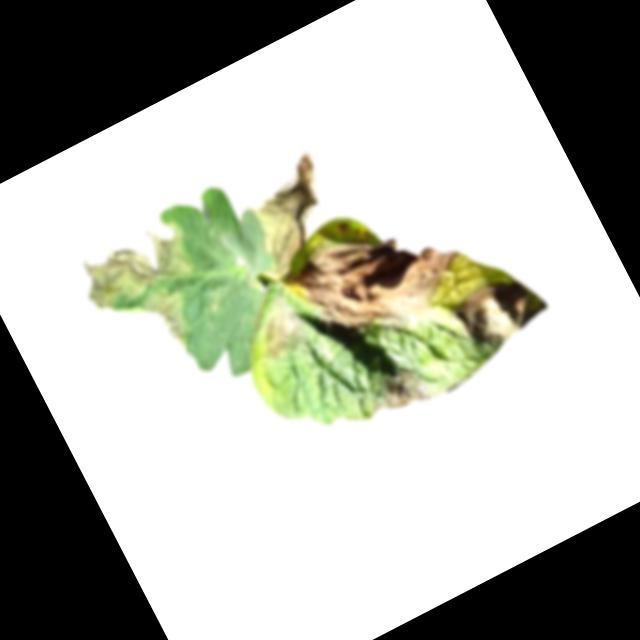Late_blight: (284, 194, 477, 362), (67, 213, 232, 382), (226, 145, 357, 279), (446, 262, 554, 357), (245, 291, 313, 364), (364, 359, 433, 422)
